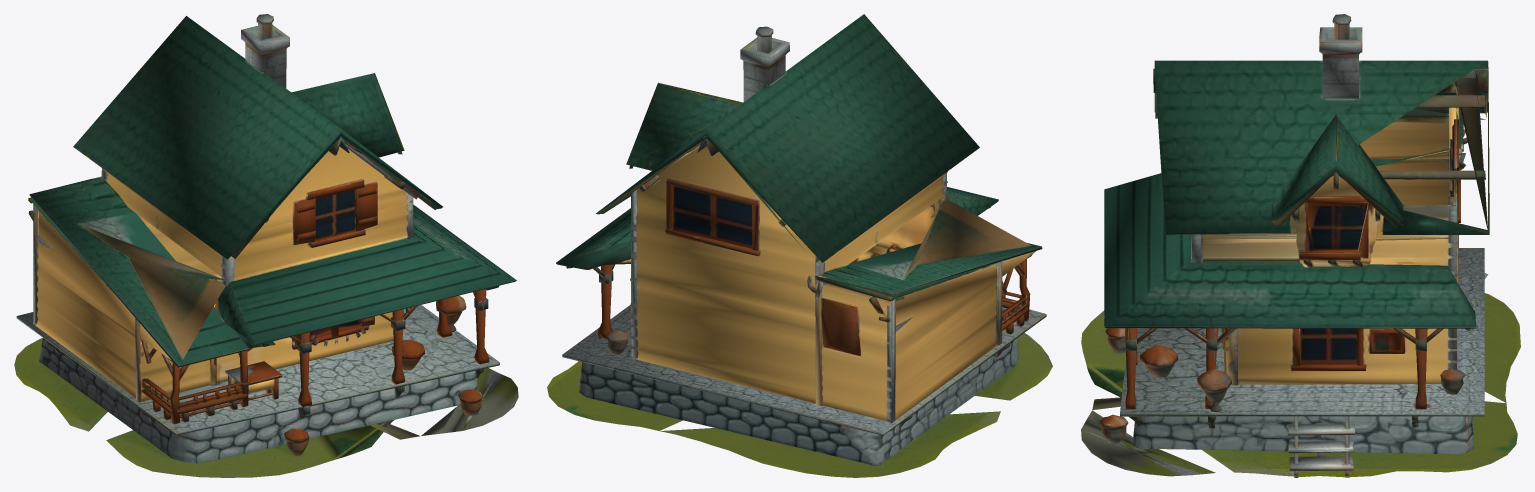
File: farmhouse.glb
3 views of the same model, side by side, from view 1: azimuth 30°, elevation 25°; view 2: azimuth 150°, elevation 25°; view 3: azimuth 270°, elevation 25° (orthographic). The views are drawn at different scales.
Size of the model in its own units: 0.9614 by 0.8398 by 0.8961.
1 material, 1 textured.
